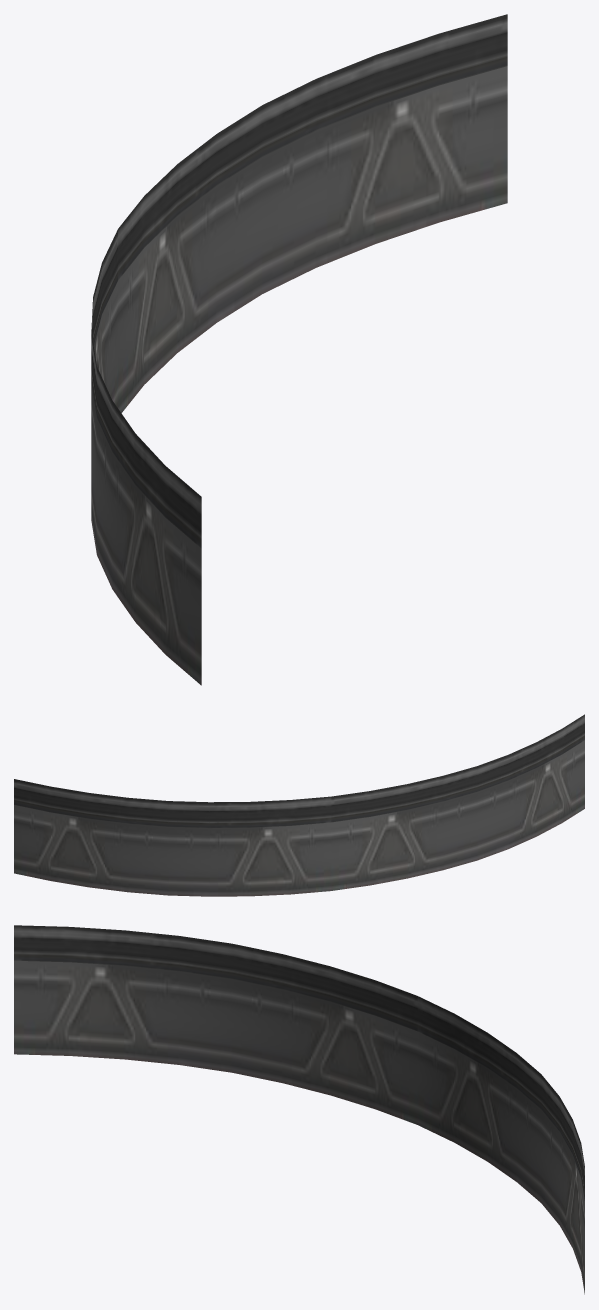
Rendered from sf_low_wall_triangles_corner.glb.
The picture shows the model from 3 angles, top to bottom: view 1: azimuth 30°, elevation 25°; view 2: azimuth 150°, elevation 25°; view 3: azimuth 270°, elevation 25°; orthographic projection. The views are drawn at different scales.
Parts seen in each view (by area): view 1: ShortWall_Triangles_Corner_Inner; view 2: ShortWall_Triangles_Corner_Inner; view 3: ShortWall_Triangles_Corner_Inner.
Part boxes in pixels (left/top/right/bottom): ShortWall_Triangles_Corner_Inner: left=91, top=14, right=507, bottom=685; ShortWall_Triangles_Corner_Inner: left=14, top=714, right=584, bottom=896; ShortWall_Triangles_Corner_Inner: left=14, top=925, right=584, bottom=1294.
Bounding box in the file's own units: 4 × 0.9981 × 4.
Materials: 1 (1 with a texture image).
